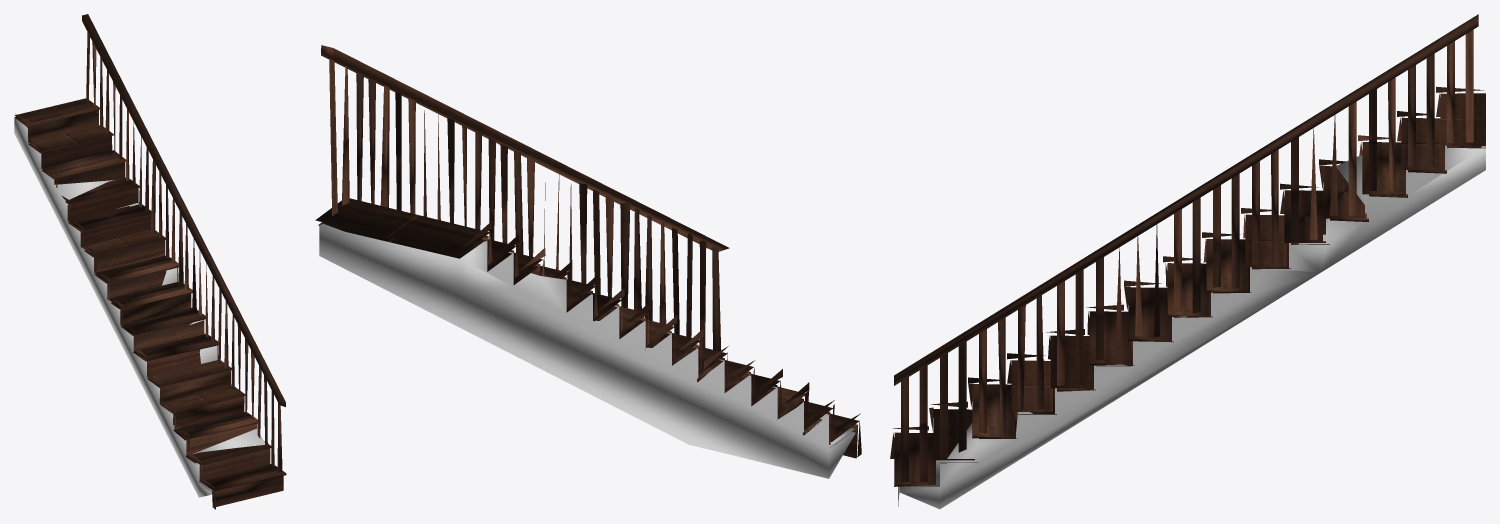
The model's file is staircase.glb.
The picture shows the model from 3 angles, left to right: view 1: azimuth 30°, elevation 25°; view 2: azimuth 150°, elevation 25°; view 3: azimuth 270°, elevation 25°; orthographic projection. The views are drawn at different scales.
Visible parts, largest first — view 1: wooden_staircase; view 2: wooden_staircase; view 3: wooden_staircase.
Part boxes in pixels (x1,y1,x2,y2): wooden_staircase: (14,14,286,509); wooden_staircase: (315,45,861,478); wooden_staircase: (890,14,1485,509).
Size of the model in its own units: 35.8 by 157 by 172.
1 material, 1 textured.
